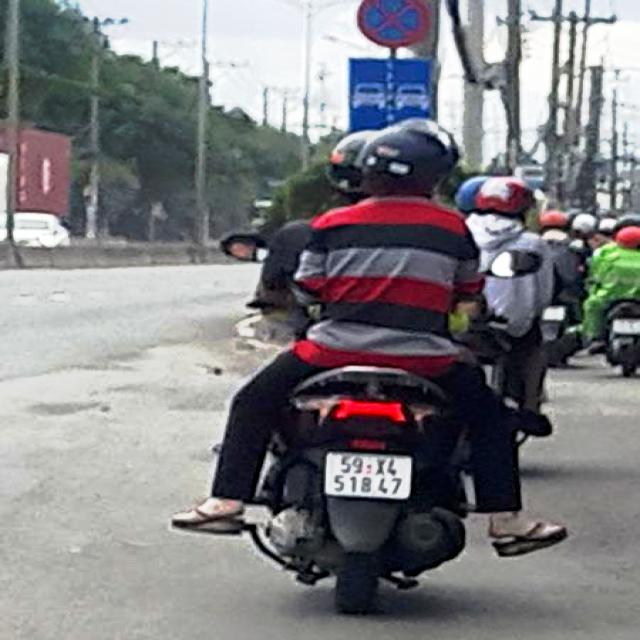license_plate: (323, 455, 413, 500)
